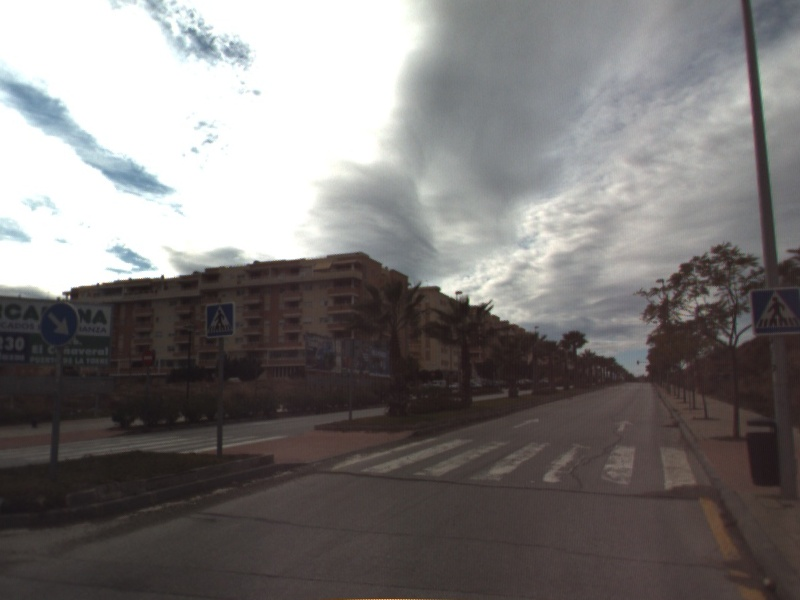STRAIGHT: (512, 415, 542, 430), (613, 418, 636, 433)
